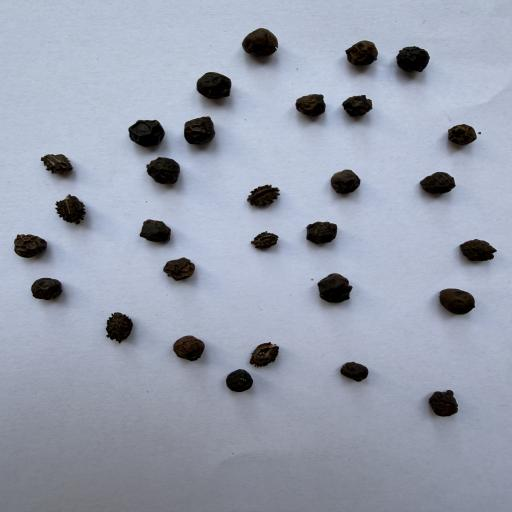Black_pepper: (417, 380, 483, 423), (433, 274, 490, 322), (437, 228, 504, 268), (311, 268, 365, 313), (332, 357, 376, 393), (123, 117, 170, 149), (397, 43, 435, 78), (236, 26, 280, 56), (342, 38, 382, 69), (144, 156, 185, 186), (195, 70, 235, 100), (135, 217, 176, 245), (184, 114, 218, 146), (418, 168, 458, 194), (172, 334, 210, 361), (448, 120, 484, 148), (30, 276, 66, 303), (330, 169, 362, 197), (292, 94, 329, 118), (306, 220, 340, 246), (11, 233, 47, 257), (164, 257, 198, 281), (342, 95, 378, 116), (225, 369, 255, 394)
papaya_seed: (91, 304, 149, 357), (30, 148, 103, 186), (44, 187, 101, 232), (234, 171, 287, 213), (249, 221, 300, 262), (242, 332, 290, 368)
